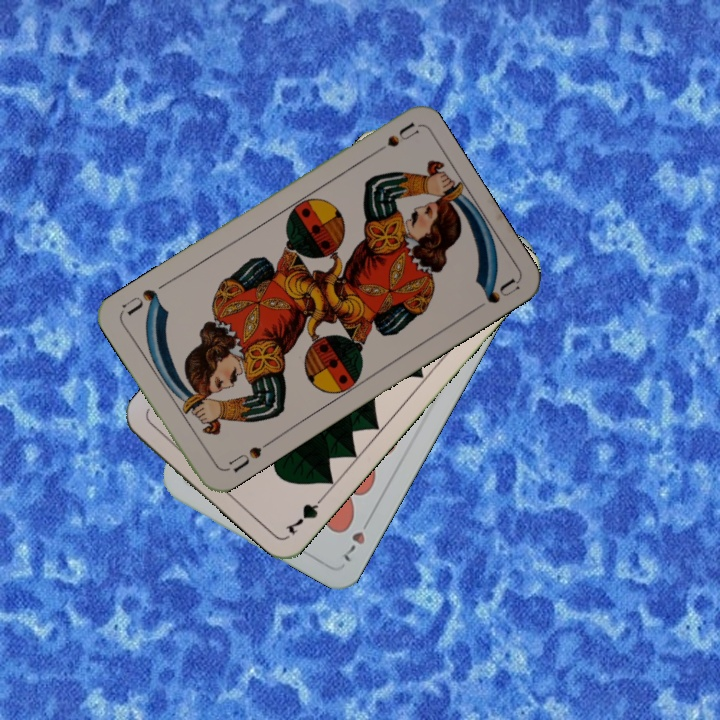G7: (281, 489, 329, 538)
H7: (339, 512, 375, 565)
SU: (364, 119, 420, 160), (221, 437, 274, 475)
